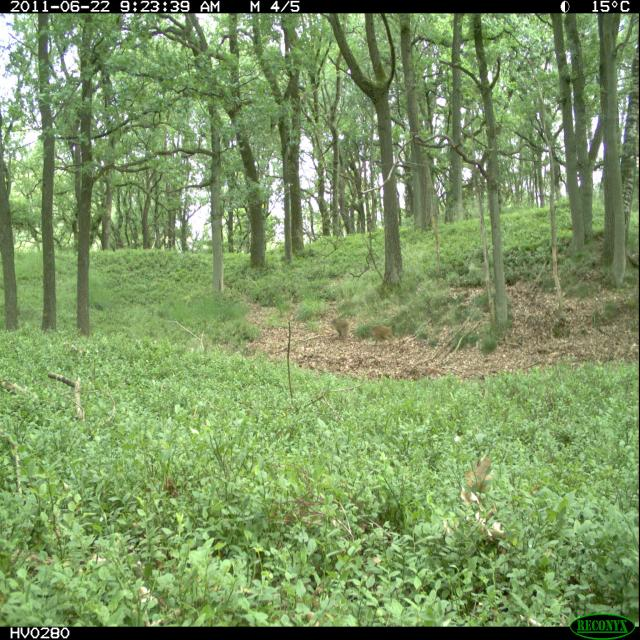boar: (456, 434, 514, 518), (361, 316, 417, 357), (331, 310, 353, 346)
